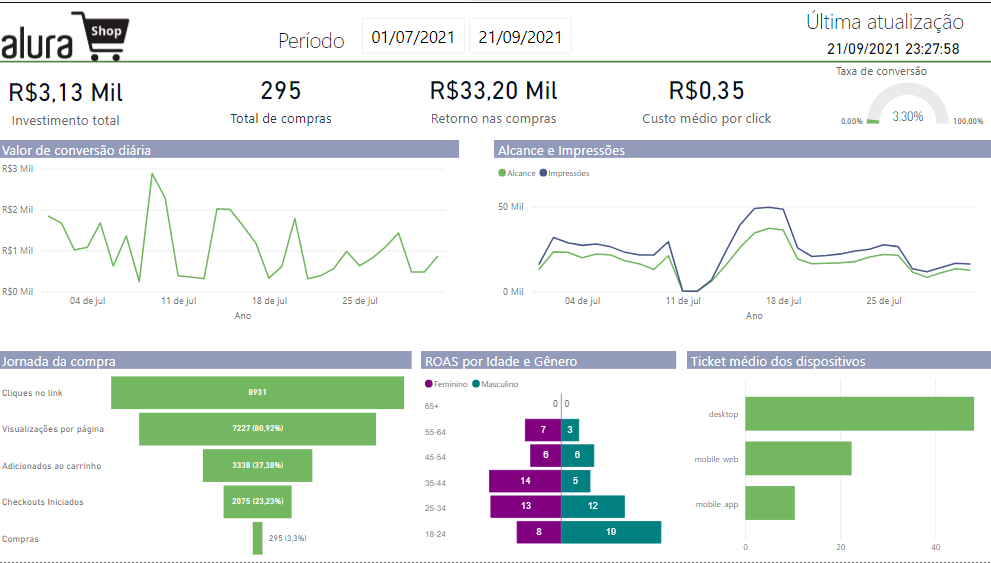

The page's visual inventory and layout, read from the dashboard file:
{"tool":"powerbi","page":{"name":"Página 1","canvas":[1280,720],"ordinal":0},"visuals":[{"type":"shape","box":[0,0,1280,150.9],"z":0},{"type":"card","fields":{"Values":["Sum(Tabela_idade_e_genero.Compras)"]},"box":[277,77.8,175.2,88.3],"z":1000},{"type":"image","box":[0,0,174.4,86.3],"z":2000},{"type":"card","fields":{"Values":["Tabela_idade_e_genero.Investimento total"]},"box":[0,79.3,173.7,86.8],"z":3000},{"type":"TornadoChart1452517688218","fields":{"Series":["Tabela_idade_e_genero.Gênero"],"Category":["Tabela_idade_e_genero.Idade"],"Values":["Tabela_idade_e_genero.ROAS"]},"box":[544.9,447.6,329.4,272.5],"z":4000},{"type":"card","fields":{"Values":["Sum(Tabela_idade_e_genero.Valor de conversão de compras)"]},"box":[544.9,76.4,187.1,89.8],"z":5000},{"type":"funnel","title":"Jornada da compra","fields":{"Y":["Sum(Tabela_idade_e_genero.Cliques no link)","Sum(Tabela_idade_e_genero.Visualizações por página)","Sum(Tabela_idade_e_genero.Adicionados ao carrinho)","Sum(Tabela_idade_e_genero.Checkouts Iniciados)","Sum(Tabela_idade_e_genero.Compras)"]},"box":[0,447.6,533,272.5],"z":6000},{"type":"gauge","fields":{"Y":["Tabela_idade_e_genero.Taxa de conversão"]},"box":[1073.6,77.8,206.5,87.7],"z":7000},{"type":"clusteredBarChart","title":"Ticket médio dos dispositivos","fields":{"Category":["Tabela_dispositivos.Plataforma do dispositivo","Tabela_dispositivos.Colocação","Tabela_dispositivos.Plataforma"],"Y":["Tabela_dispositivos.Ticket médio"]},"box":[887.8,447.6,392.2,271],"z":8000},{"type":"lineChart","title":"Valor de conversão diária","fields":{"Category":["Calendario.Dias.Variation.Hierarquia de datas.Ano","Calendario.Dias.Variation.Hierarquia de datas.Mês","Calendario.Dias.Variation.Hierarquia de datas.Dia"],"Y":["Sum(Tabela_idade_e_genero.Valor de conversão de compras)"]},"box":[0,176.8,594.1,237.6],"z":9000},{"type":"card","fields":{"Values":["Tabela_idade_e_genero.Custo médio por click"]},"box":[817.4,77.8,190.1,88.3],"z":10000},{"type":"lineChart","title":"Alcance e Impressões","fields":{"Y":["Sum(Tabela_idade_e_genero.Alcance)","Sum(Tabela_idade_e_genero.Impressões)"],"Category":["Calendario.Dias.Variation.Hierarquia de datas.Ano","Calendario.Dias.Variation.Hierarquia de datas.Mês","Calendario.Dias.Variation.Hierarquia de datas.Dia"]},"box":[639.4,176.8,640.8,237.6],"z":11000},{"type":"card","fields":{"Values":["Min(Atualizacao.dt_atualizacao)"]},"box":[1026.6,42.9,253.4,31.7],"z":12000},{"type":"slicer","title":"Período","fields":{"Values":["Calendario.Dias"]},"box":[456,9,296.2,64.4],"z":13000},{"type":"textbox","box":[363.2,24.5,99.2,50.2],"z":14000},{"type":"textbox","box":[1035.9,0,244.1,48.4],"z":15000}]}

Visuals, with their boxes in screenshot pixels (x1, y1, x2, y2), scaled from the page's 1280x720 canvas onto the 991x563 screenshot:
shape: 0:0:990:118
card - Sum(Tabela_idade_e_genero.Compras): 214:61:350:130
image: 0:0:135:67
card - Tabela_idade_e_genero.Investimento total: 0:62:134:130
TornadoChart1452517688218 - Tabela_idade_e_genero.Gênero x Tabela_idade_e_genero.Idade: 422:350:677:562
card - Sum(Tabela_idade_e_genero.Valor de conversão de compras): 422:60:567:130
"Jornada da compra" funnel: 0:350:413:562
gauge - Tabela_idade_e_genero.Taxa de conversão: 831:61:990:129
"Ticket médio dos dispositivos" clusteredBarChart: 687:350:990:562
"Valor de conversão diária" lineChart: 0:138:460:324
card - Tabela_idade_e_genero.Custo médio por click: 633:61:780:130
"Alcance e Impressões" lineChart: 495:138:990:324
card - Min(Atualizacao.dt_atualizacao): 795:34:990:58
"Período" slicer: 353:7:582:57
textbox: 281:19:358:58
textbox: 802:0:990:38
